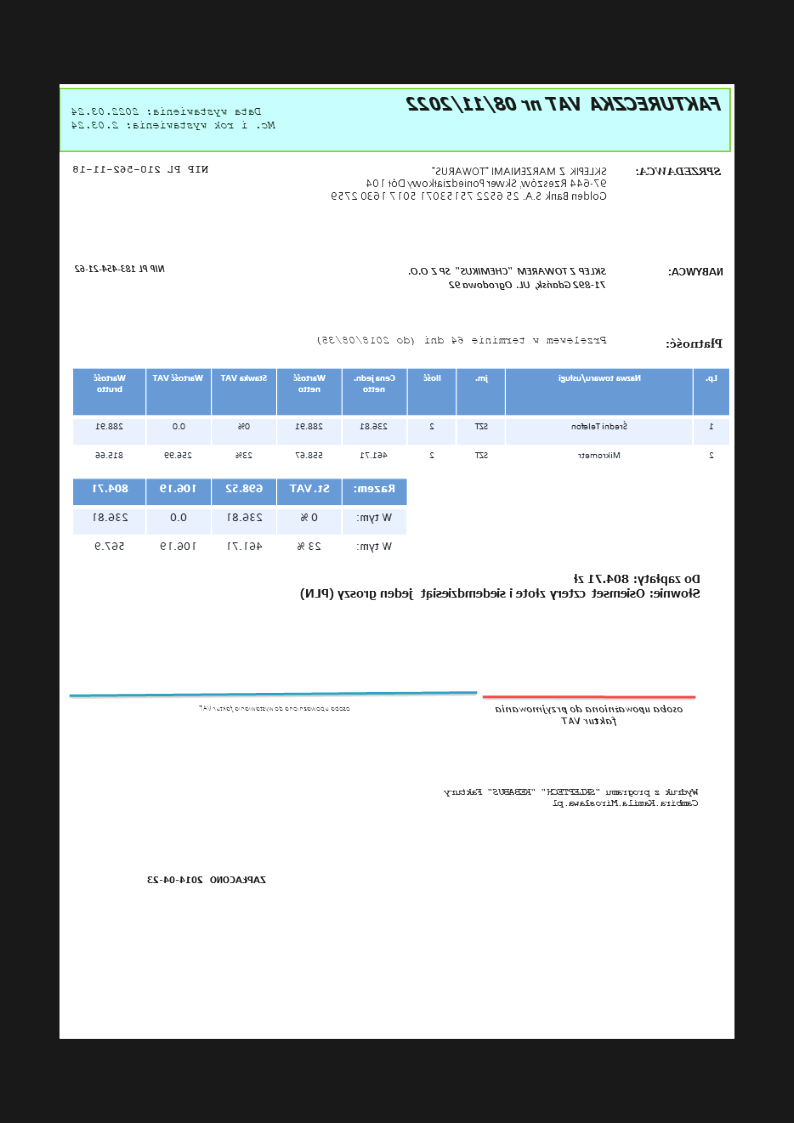Table: (72, 365, 731, 474), (71, 477, 409, 567)
TextBox: (298, 572, 704, 604), (329, 164, 610, 205), (405, 92, 725, 115), (443, 784, 701, 811), (69, 104, 278, 133), (409, 264, 609, 292), (493, 702, 686, 729), (316, 333, 610, 346), (71, 162, 212, 176), (196, 703, 354, 715), (145, 873, 269, 886), (635, 163, 724, 178), (74, 262, 168, 275), (666, 335, 724, 350), (667, 264, 727, 278)
